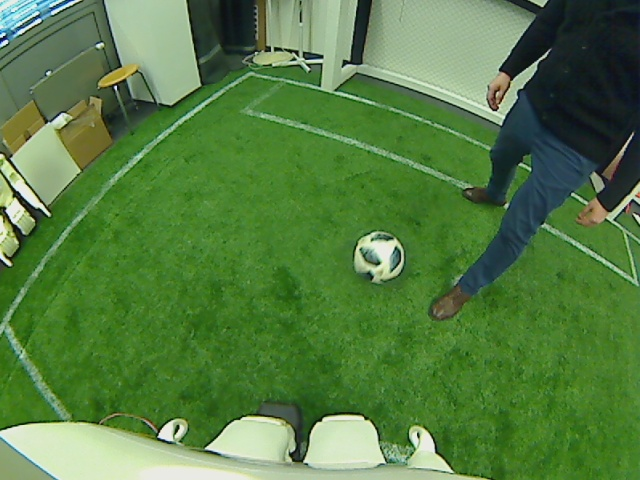ball: (350, 230, 406, 285)
